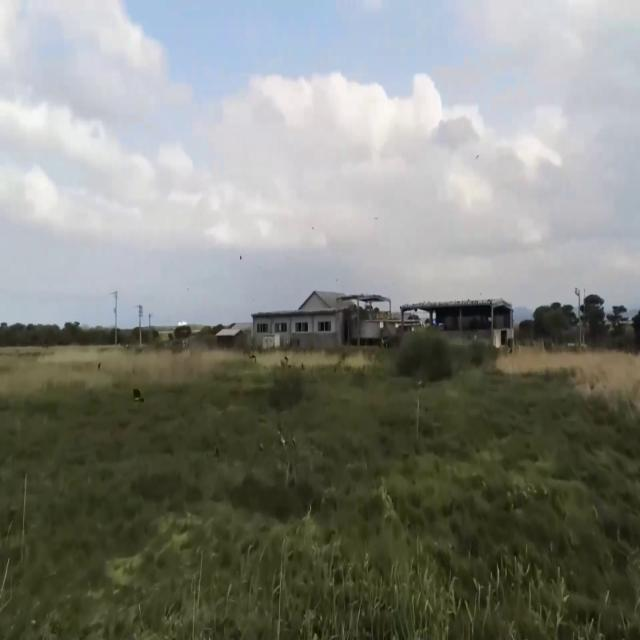bird: (132, 381, 145, 411)
